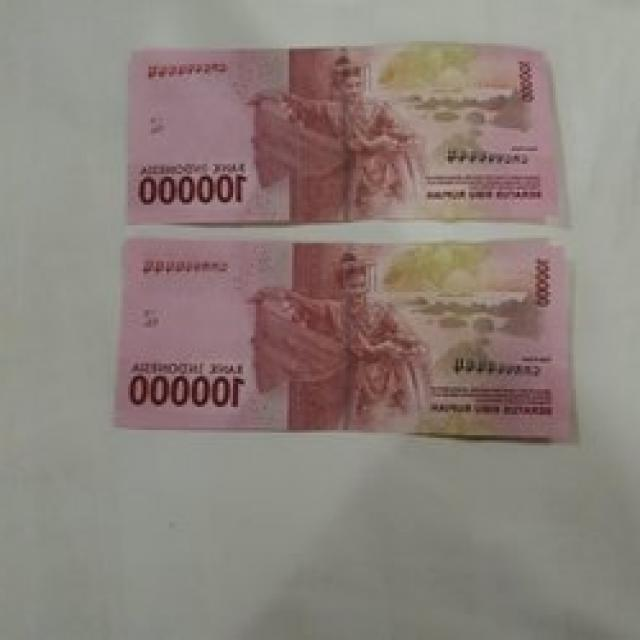seratus ribu rupiah: (88, 242, 570, 430), (122, 41, 554, 226)
